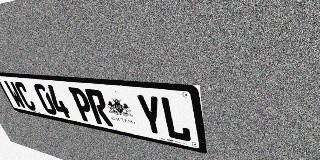0: (32, 83, 58, 116)
4: (45, 85, 72, 118)
C: (13, 81, 38, 111)
L: (159, 96, 192, 143)
P: (68, 87, 97, 123)
R: (84, 89, 114, 127)
W: (3, 80, 27, 109)
Y: (135, 94, 167, 138)
